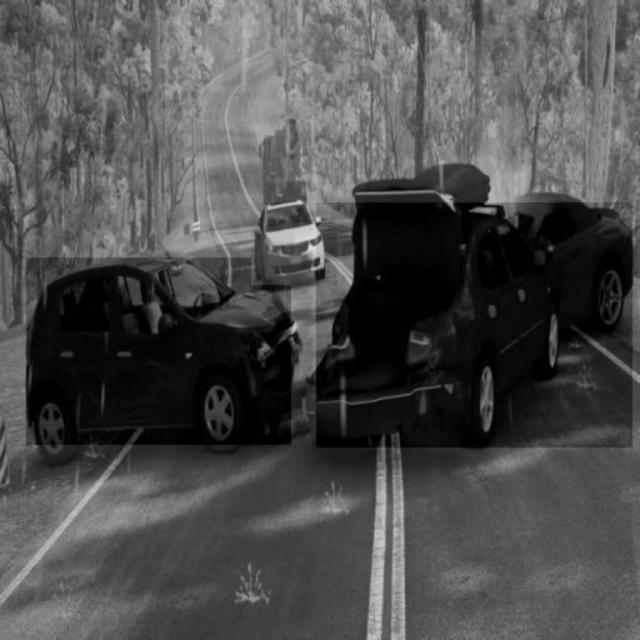accident: (317, 203, 633, 447)
vehicle: (27, 258, 291, 445), (252, 203, 330, 285)
